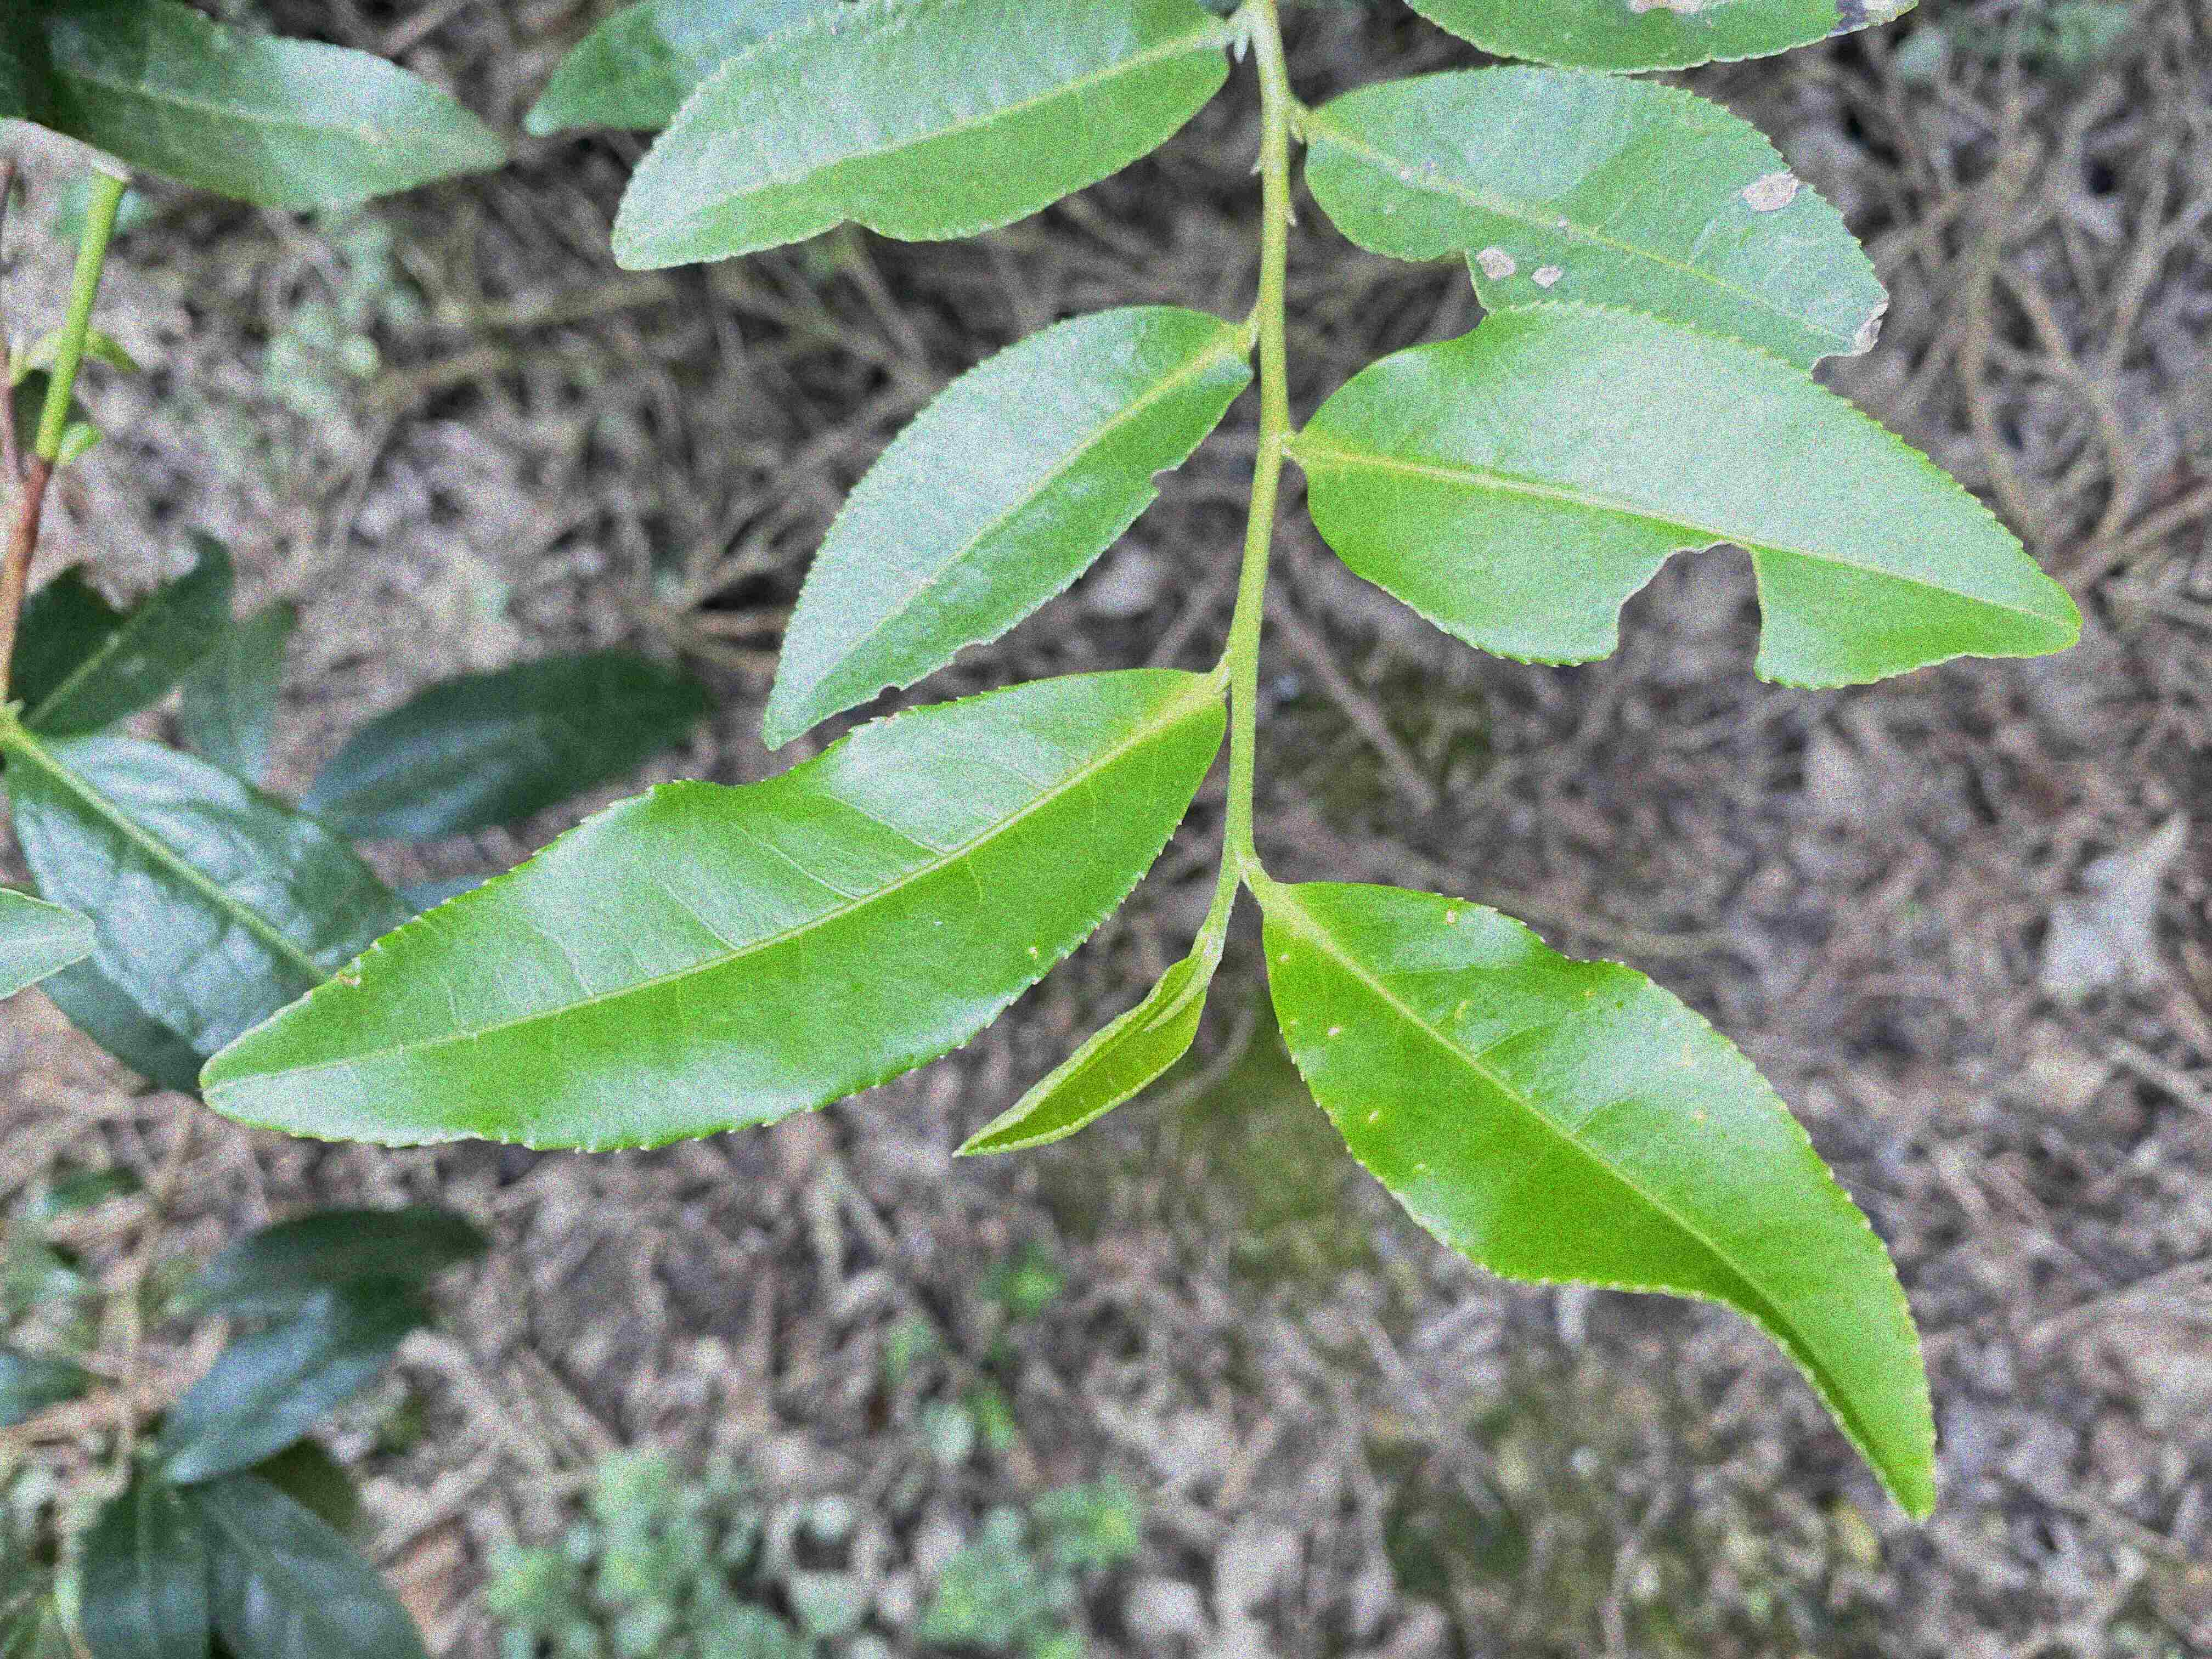chihuo_high: (761, 300, 1252, 751)
chihuo_low: (1296, 298, 2087, 692)
healthy: (195, 664, 1226, 1159), (1259, 875, 1940, 1525), (606, 0, 1231, 272)
tanju_high: (1303, 63, 1895, 369)
